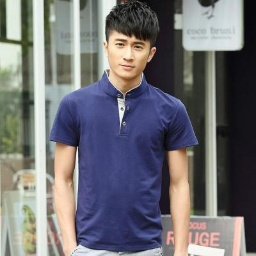face: (101, 1, 159, 82)
